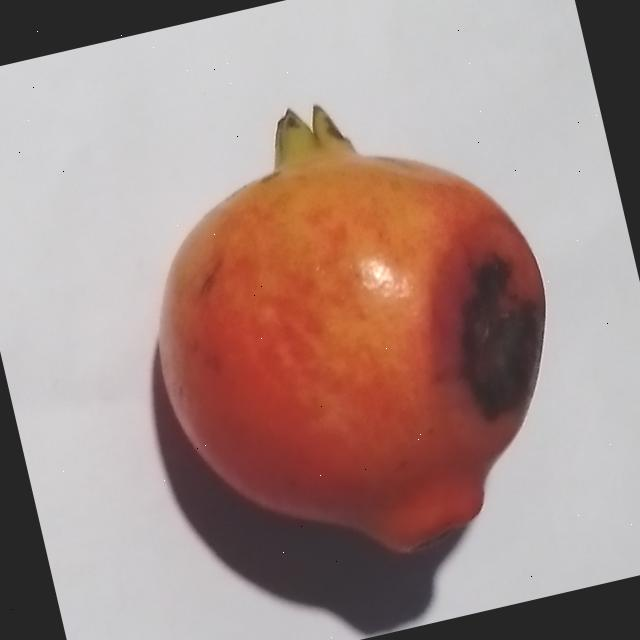Rotten: (109, 61, 598, 596)
